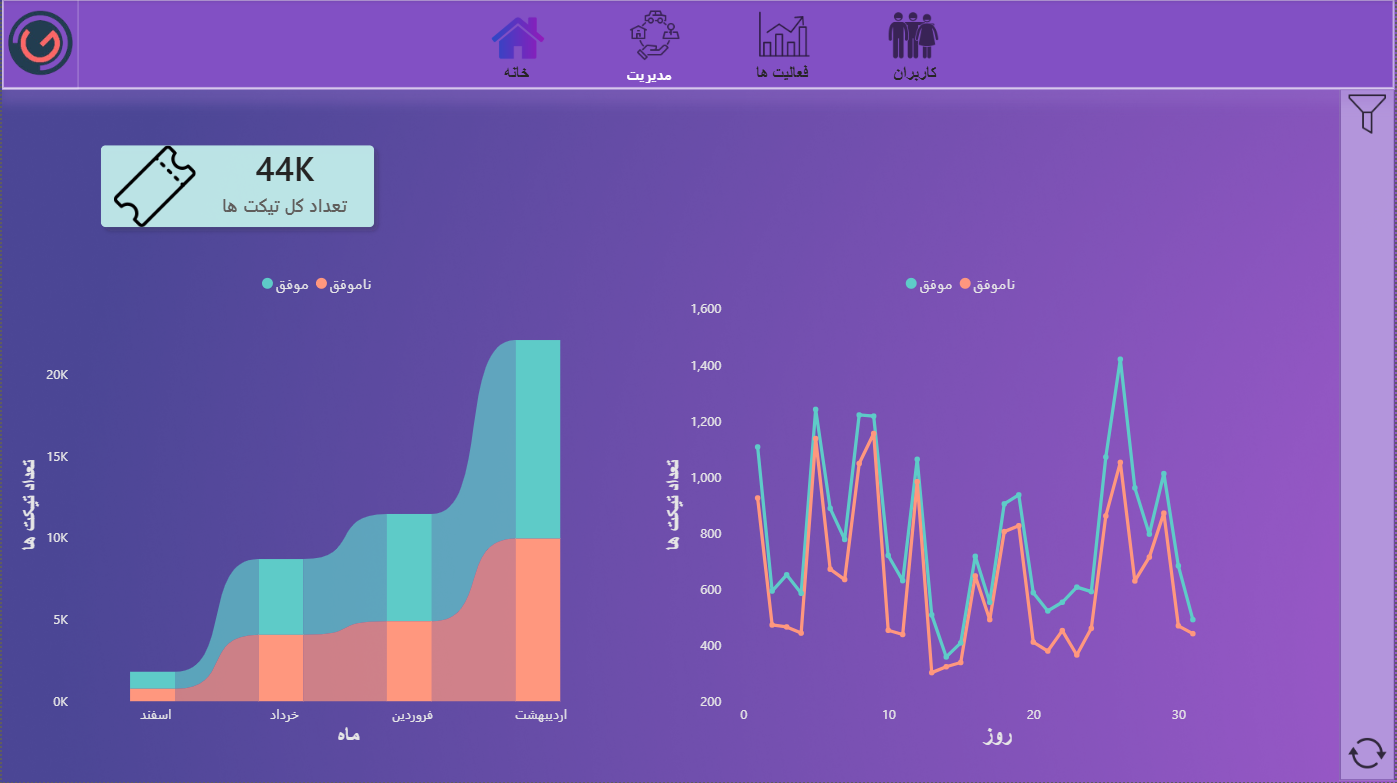

Layout of this report page (visuals, bound fields, positions):
{"tool":"powerbi","page":{"name":"مدیریت","canvas":[1280,720],"ordinal":1},"visuals":[{"type":"shape","box":[1228.9,83.2,50.9,635.5],"z":0},{"type":"shape","box":[0,0,1280,83],"z":1000},{"type":"image","box":[0,0,70.8,83.2],"z":2000},{"type":"image","box":[428.3,7.2,89,59.8],"z":2000,"group":"g1"},{"type":"image","box":[1230.8,86.2,49.2,39],"z":2000,"group":"g2"},{"type":"image","box":[796.8,6,80.5,50.4],"z":3000,"group":"g1"},{"type":"ribbonChart","fields":{"Y":["CountNonNull(TrReport (2).ObjectId)"],"Category":["Calender.MonthName"],"Series":["TrReport (2).Succsessfulness"]},"box":[11.2,240.8,559.8,451.8],"z":3000},{"type":"image","box":[676.5,9.7,84.9,46.5],"z":4000,"group":"g1"},{"type":"image","box":[1228.8,675.6,51.2,34.9],"z":4000},{"type":"image","box":[559.5,6.3,80.5,50.4],"z":5000,"group":"g1"},{"type":"lineChart","fields":{"Category":["Calender.J_Day"],"Y":["CountNonNull(TrReport (2).ObjectId)"],"Series":["TrReport (2).Succsessfulness"]},"box":[603.3,240.8,559.8,451.8],"z":5000},{"type":"group","id":"g1","title":"Group 1","box":[417.1,6,479.1,77],"z":6000},{"type":"group","id":"g2","title":"Group 1","box":[1058.4,81.8,221.6,638.2],"z":7000},{"type":"cardVisual","fields":{"Data":["CountNonNull(TrReport (2).ObjectId)"]},"box":[61.6,105.8,309.3,133.7],"z":8000},{"type":"pageNavigator","box":[417.1,54.4,479.1,28.5],"z":9001,"group":"g1"}]}

Visuals, with their boxes on the page's 1280x720 design canvas (x1, y1, x2, y2). These are canvas units, not pixel positions in the 1397x783 screenshot, which may show the page scaled, cropped or inside an application window:
shape: 1229, 83, 1280, 719
shape: 0, 0, 1280, 83
image: 0, 0, 71, 83
image: 428, 7, 517, 67
image: 1231, 86, 1280, 125
image: 797, 6, 877, 56
ribbonChart - CountNonNull(TrReport (2).ObjectId) x Calender.MonthName: 11, 241, 571, 693
image: 676, 10, 761, 56
image: 1229, 676, 1280, 710
image: 560, 6, 640, 57
lineChart - Calender.J_Day x CountNonNull(TrReport (2).ObjectId): 603, 241, 1163, 693
"Group 1" group: 417, 6, 896, 83
"Group 1" group: 1058, 82, 1280, 720
cardVisual - CountNonNull(TrReport (2).ObjectId): 62, 106, 371, 240
pageNavigator: 417, 54, 896, 83
